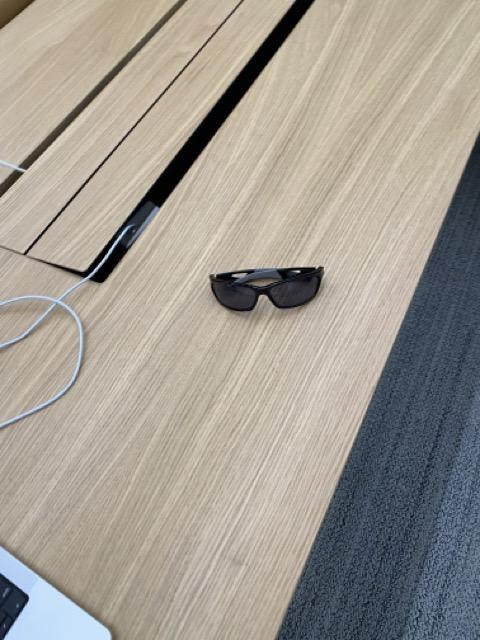Sunglasses: (209, 266, 325, 312)
